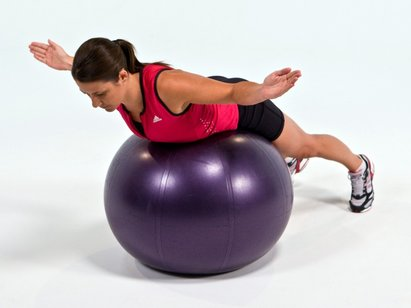yogaball: (96, 122, 296, 281)
